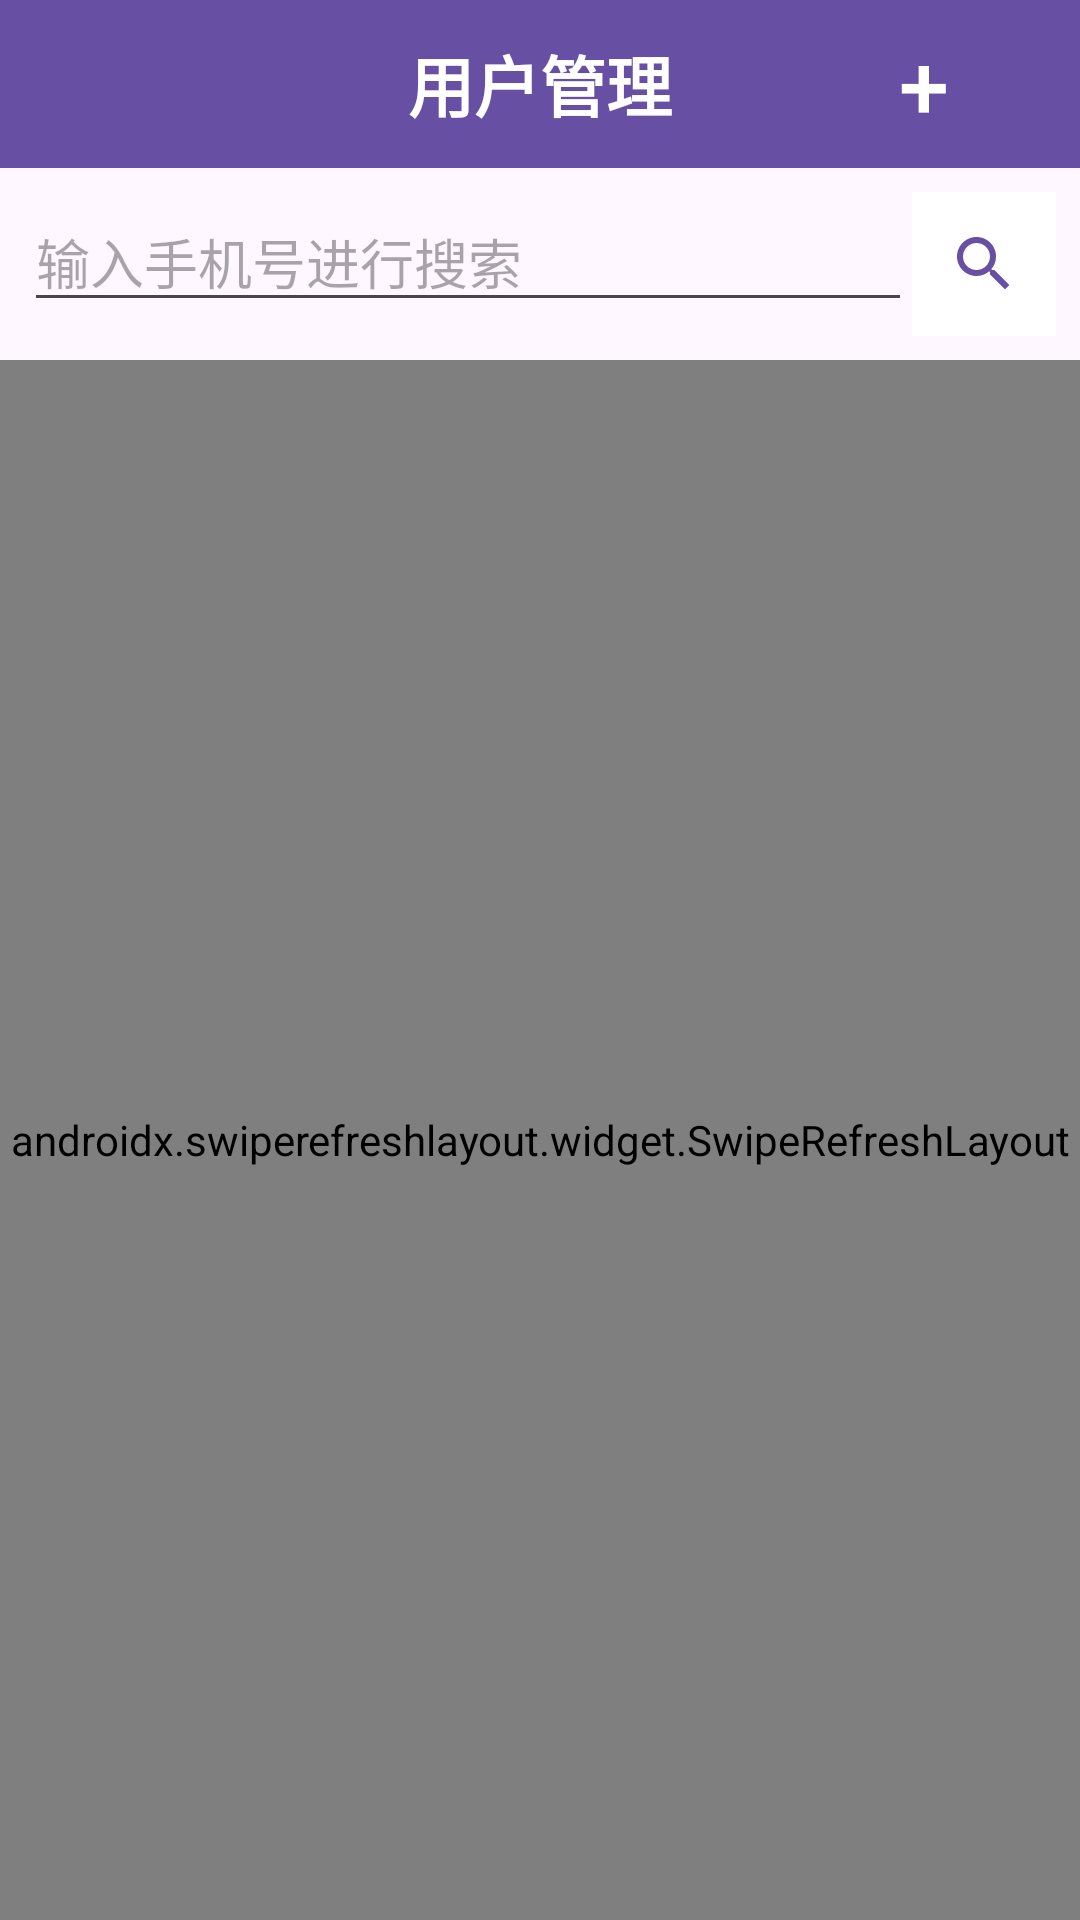

Where icons sit on this 1080w x 1920h app screen, as (x1, y1, x2, y2):
search: (957, 237, 1009, 289)
